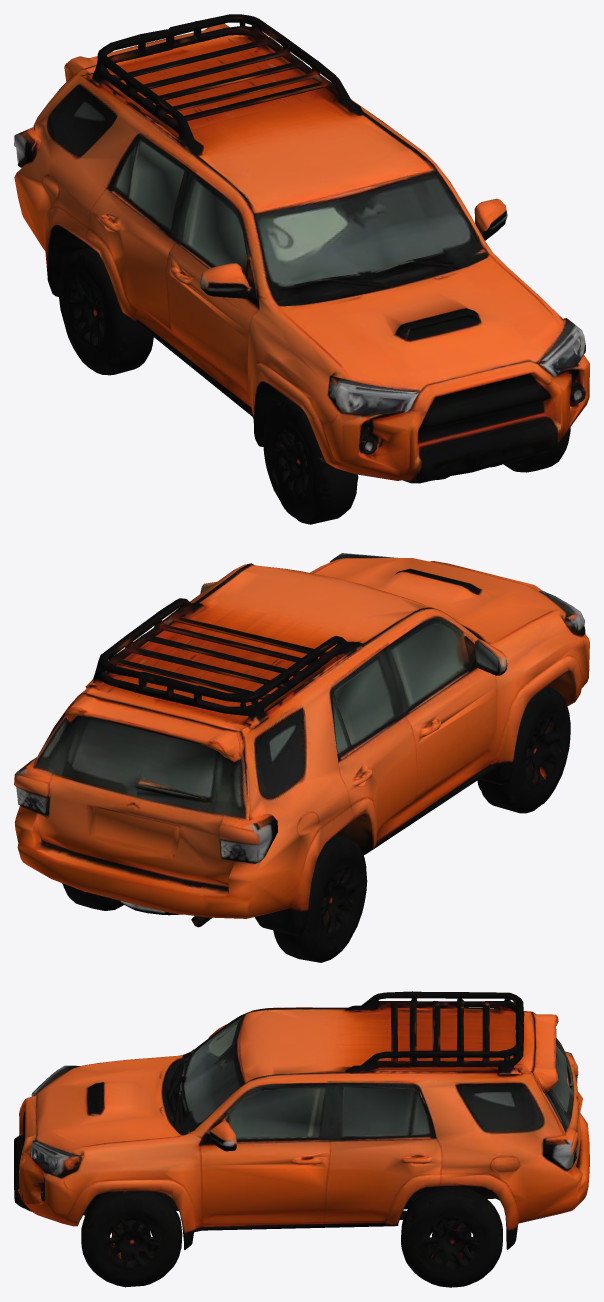
File: item-4runner.glb
3 views of the same model, one above another, from view 1: azimuth 30°, elevation 25°; view 2: azimuth 150°, elevation 25°; view 3: azimuth 270°, elevation 25° (orthographic). The views are drawn at different scales.
Parts seen in each view (by area): view 1: material; view 2: material; view 3: material.
Boxes of the visible parts, <box> form: material: <box>14,14,589,524</box>; material: <box>14,553,589,962</box>; material: <box>14,991,589,1287</box>.
Size of the model in its own units: 0.556 by 0.4944 by 1.16.
Materials: 1 (1 with a texture image).
